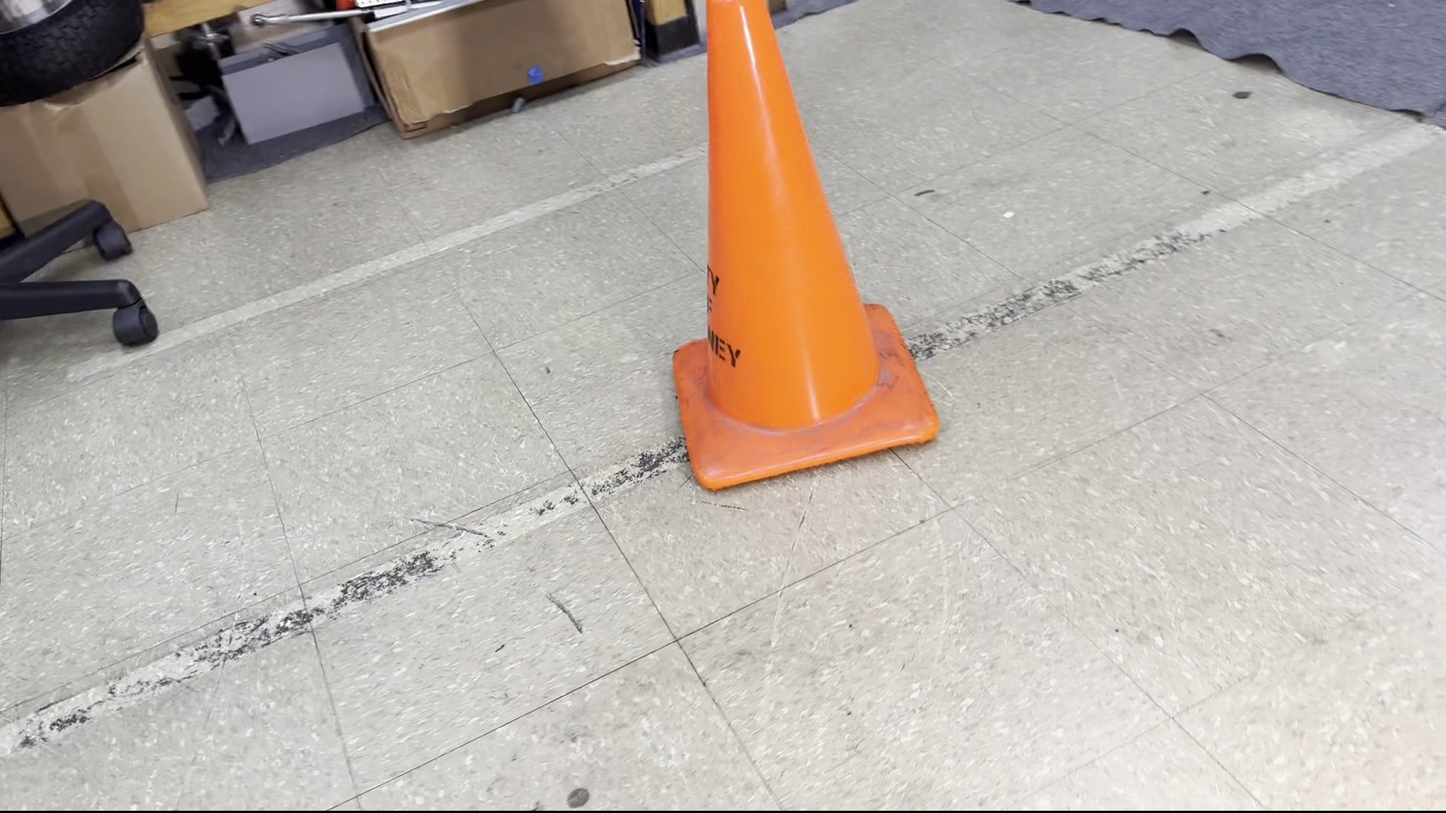traffic_cone: (671, 0, 941, 493)
